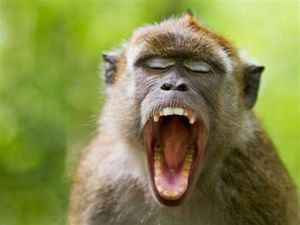monkey: (88, 31, 265, 194)
